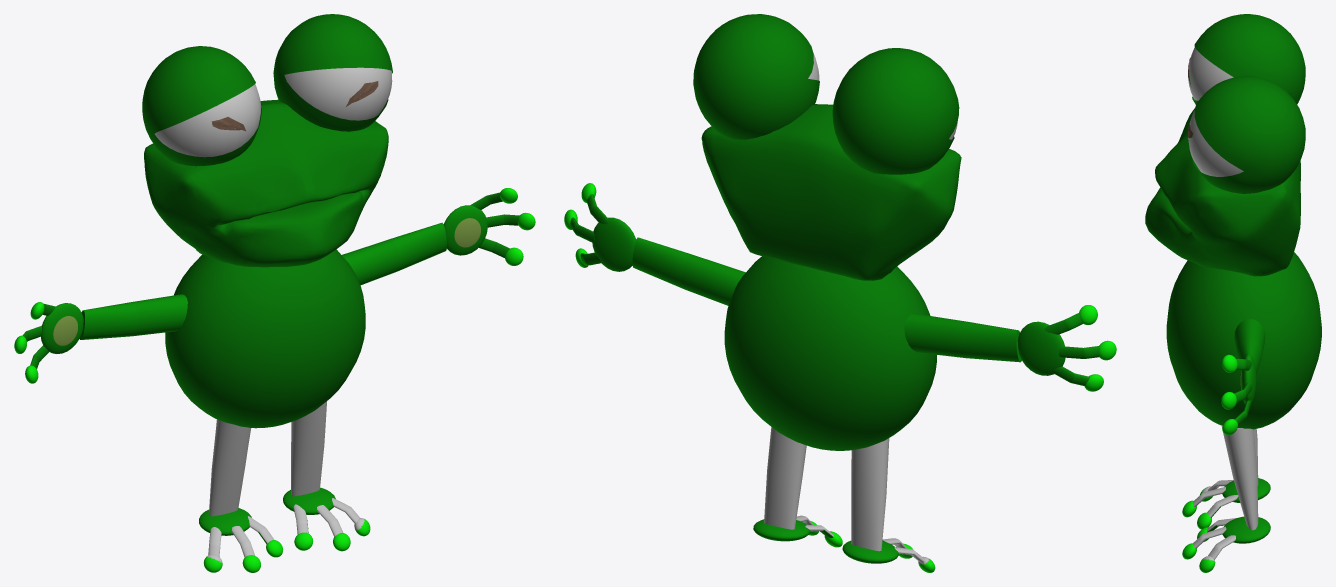
File: frogman.fbx
The picture shows the model from 3 angles, left to right: view 1: azimuth 30°, elevation 25°; view 2: azimuth 150°, elevation 25°; view 3: azimuth 270°, elevation 25°; orthographic projection. The views are drawn at different scales.
Visible parts, largest first — view 1: pSphere2, pCube1, nurbsToPoly1, pSphere1, pCylinder2, pasted__pCylinder2, pSphere3, pasted__pSphere3, pasted__pasted__pCylinder1, pCube2; view 2: pSphere2, pCube1, nurbsToPoly1, pCylinder2, pasted__pCylinder2, pSphere3, pasted__pSphere3, pasted__pCylinder1 (×2); view 3: pSphere2, nurbsToPoly1, pCube1, pSphere1, pasted__pCylinder2, pasted__pSphere3, pCylinder2, pasted__pasted__pCylinder1 (×2), pasted__pasted__pSphere4 (×2), pSphere3, pasted__pCylinder1, pasted__pSphere4.
Boxes of the visible parts, x1=… form: pSphere2: x1=165, y1=249, x2=365, y2=428; pCube1: x1=144, y1=99, x2=388, y2=267; nurbsToPoly1: x1=142, y1=14, x2=392, y2=166; pSphere1: x1=154, y1=67, x2=392, y2=157; pCylinder2: x1=79, y1=222, x2=446, y2=339; pasted__pCylinder2: x1=209, y1=401, x2=326, y2=516; pSphere3: x1=41, y1=205, x2=487, y2=353; pasted__pSphere3: x1=199, y1=487, x2=335, y2=535; pasted__pasted__pCylinder1: x1=232, y1=505, x2=343, y2=557; pCube2: x1=211, y1=81, x2=378, y2=131; pSphere2: x1=724, y1=256, x2=936, y2=450; pCube1: x1=701, y1=104, x2=961, y2=280; nurbsToPoly1: x1=693, y1=14, x2=959, y2=174; pCylinder2: x1=632, y1=237, x2=1021, y2=362; pasted__pCylinder2: x1=764, y1=427, x2=889, y2=551; pSphere3: x1=592, y1=217, x2=1065, y2=375; pasted__pSphere3: x1=753, y1=519, x2=898, y2=563; pasted__pCylinder1 (×2): x1=570, y1=194, x2=1099, y2=358; pSphere2: x1=1166, y1=252, x2=1321, y2=429; nurbsToPoly1: x1=1192, y1=14, x2=1305, y2=193; pCube1: x1=1145, y1=108, x2=1300, y2=276; pSphere1: x1=1188, y1=47, x2=1243, y2=176; pasted__pCylinder2: x1=1221, y1=425, x2=1258, y2=530; pasted__pSphere3: x1=1222, y1=478, x2=1270, y2=543; pCylinder2: x1=1234, y1=319, x2=1265, y2=374; pasted__pasted__pCylinder1 (×2): x1=1193, y1=486, x2=1238, y2=548; pasted__pasted__pSphere4 (×2): x1=1182, y1=500, x2=1211, y2=559; pSphere3: x1=1240, y1=353, x2=1256, y2=403; pasted__pCylinder1: x1=1207, y1=480, x2=1235, y2=559; pasted__pSphere4: x1=1199, y1=486, x2=1215, y2=572.
Bounding box in the file's own units: 9.58 × 8.87 × 2.92.
